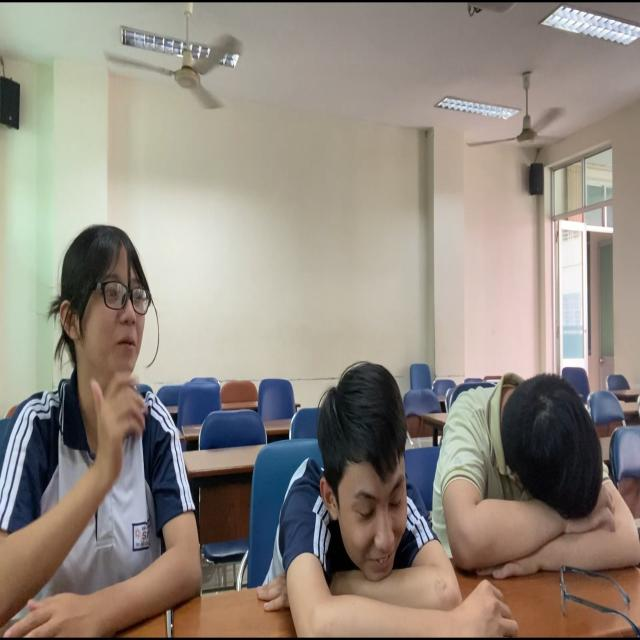sleep: (421, 357, 640, 584)
